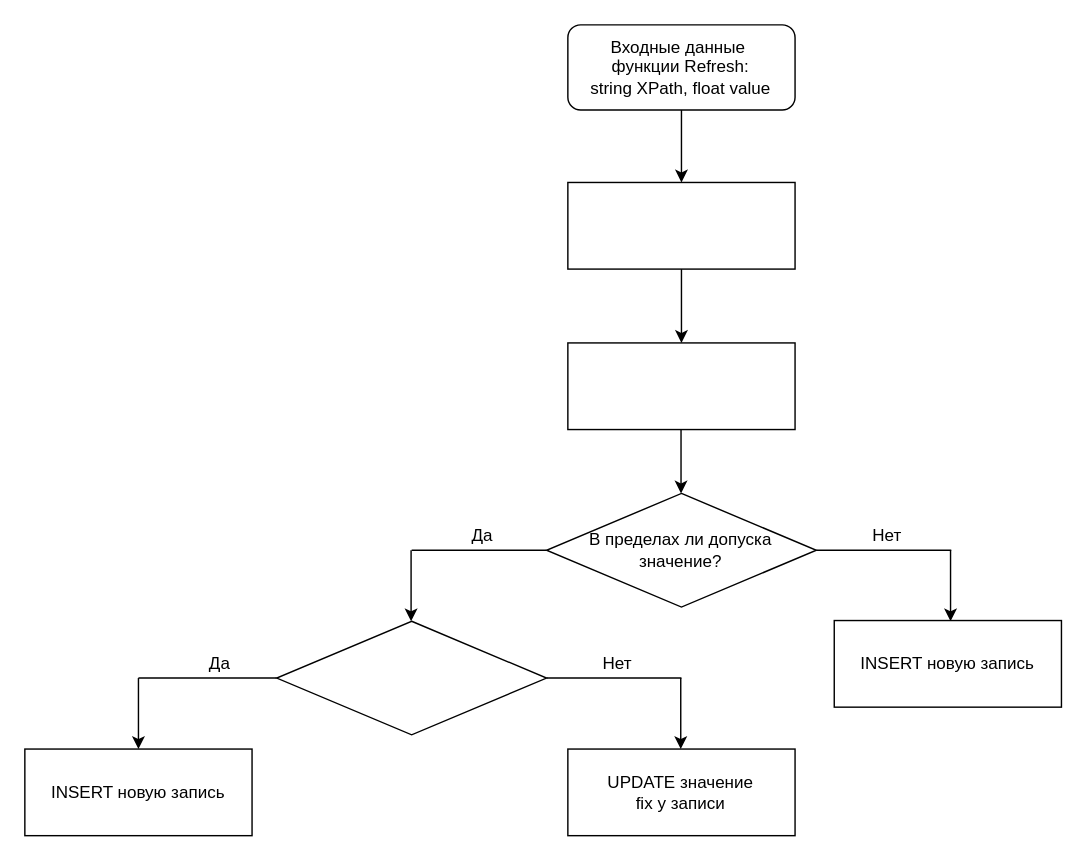
Some shapes in this 1086 by 861 pixel diagram are drawn without their labels. Here are the shapes that lost their labels. From the top down, the centre of each, then its label:
(x=680, y=225): Взять последнее значение из таблицы Actual
(x=680, y=386): И сравнить это значение с допуском
(x=411, y=677): В гипертаблице записей больше одной?
